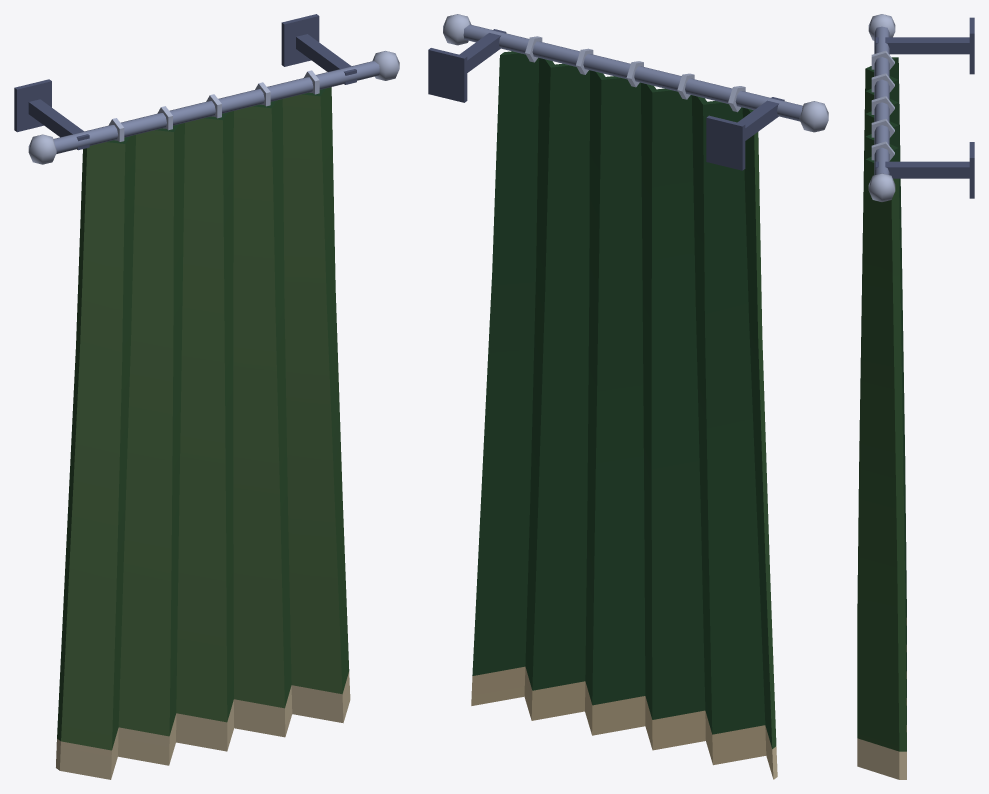
Rendered from Hide_Curtain.fbx.
3 views of the same model, side by side, from view 1: azimuth 30°, elevation 25°; view 2: azimuth 150°, elevation 25°; view 3: azimuth 270°, elevation 25° (orthographic). The views are drawn at different scales.
Visible parts, largest first — view 1: Hide_Curtain; view 2: Hide_Curtain; view 3: Hide_Curtain.
Boxes of the visible parts, x1,y1,x2,y2 form: Hide_Curtain: [14, 14, 399, 779]; Hide_Curtain: [428, 14, 828, 779]; Hide_Curtain: [857, 14, 974, 779].
Size of the model in its own units: 6.38 by 10.78 by 1.84.
1 material, 1 textured.
